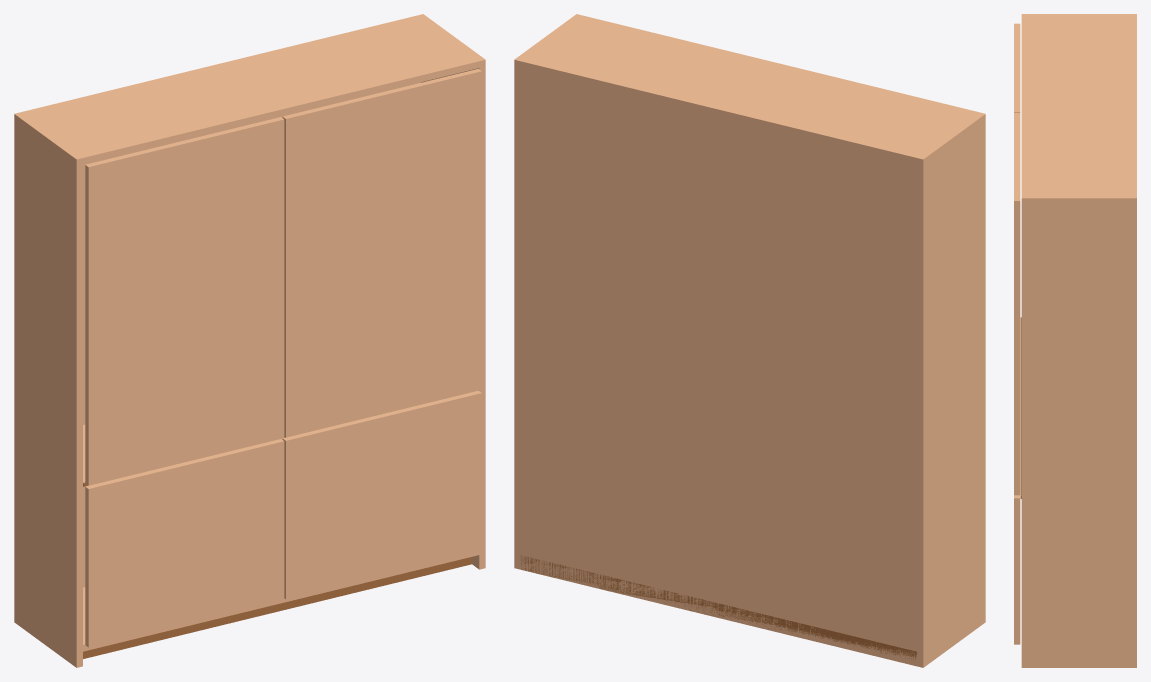
Rendered from cabinet-two-section.glb.
3 renders of one model, left to right at view 1: azimuth 30°, elevation 25°; view 2: azimuth 150°, elevation 25°; view 3: azimuth 270°, elevation 25°, orthographic. The views are drawn at different scales.
Parts seen in each view (by area): view 1: structure-assembly; view 2: structure-assembly; view 3: structure-assembly.
Part boxes in pixels (<box>): structure-assembly: <box>14,14,485,667</box>; structure-assembly: <box>514,14,985,667</box>; structure-assembly: <box>1014,14,1136,667</box>.
Size of the model in its own units: 1.6 by 1.9 by 0.45.
